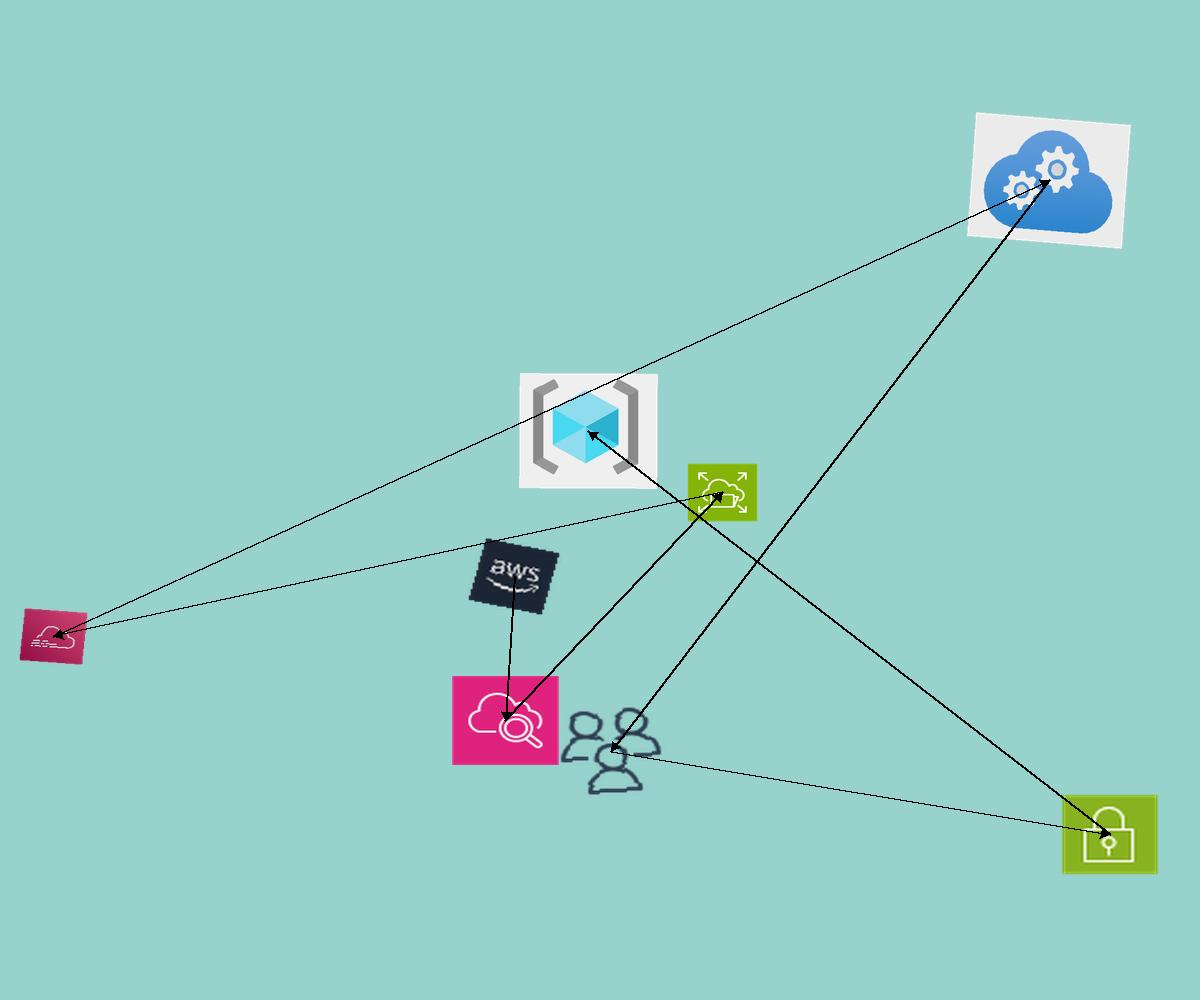AWS-Cloud-logo: (467, 537, 561, 616)
AWS-CloudTrail: (19, 608, 88, 665)
AWS-CloudWatch: (451, 675, 560, 766)
AWS-EFS: (687, 463, 758, 522)
AWS-Public-subnet: (1060, 793, 1160, 876)
AWS-Res_Users: (552, 702, 670, 800)
Azure_cloud_services: (967, 112, 1131, 249)
Azure_resource_group: (519, 373, 658, 489)
